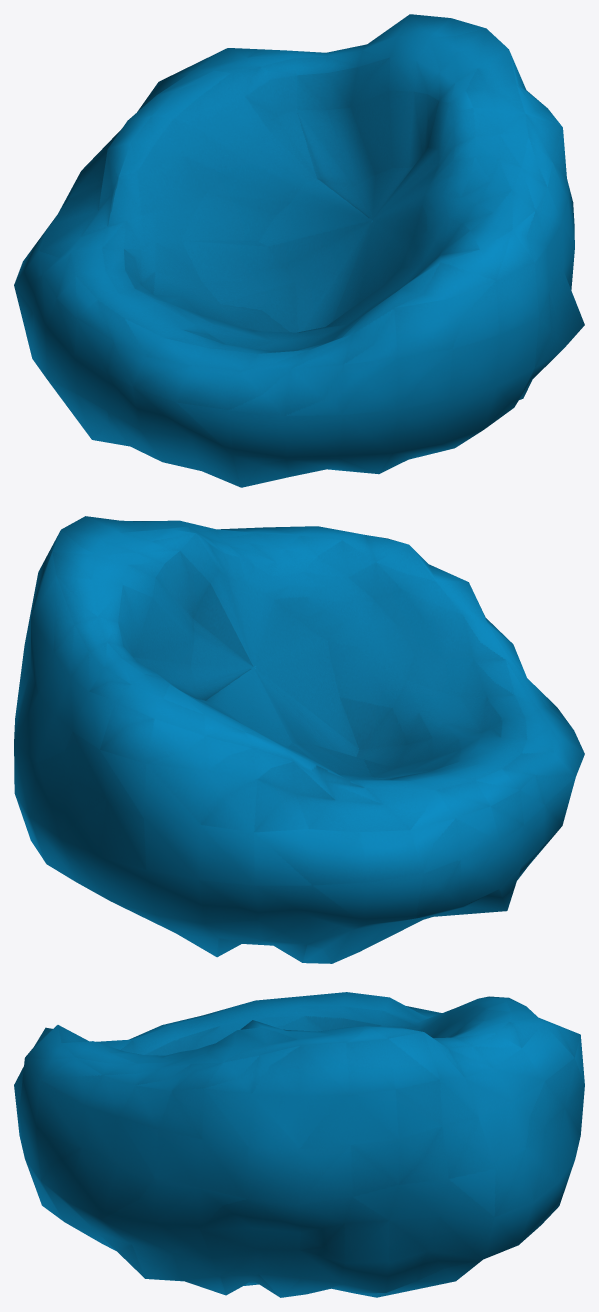
The model's file is pufa.fbx.
3 renders of one model, top to bottom at view 1: azimuth 30°, elevation 25°; view 2: azimuth 150°, elevation 25°; view 3: azimuth 270°, elevation 25°, orthographic. The views are drawn at different scales.
Parts seen in each view (by area): view 1: Sphere; view 2: Sphere; view 3: Sphere.
Boxes of the visible parts, x1,y1,x2,y2 form: Sphere: (14,14,584,487); Sphere: (14,516,584,963); Sphere: (14,992,584,1297).
Size of the model in its own units: 189 by 125 by 200.
